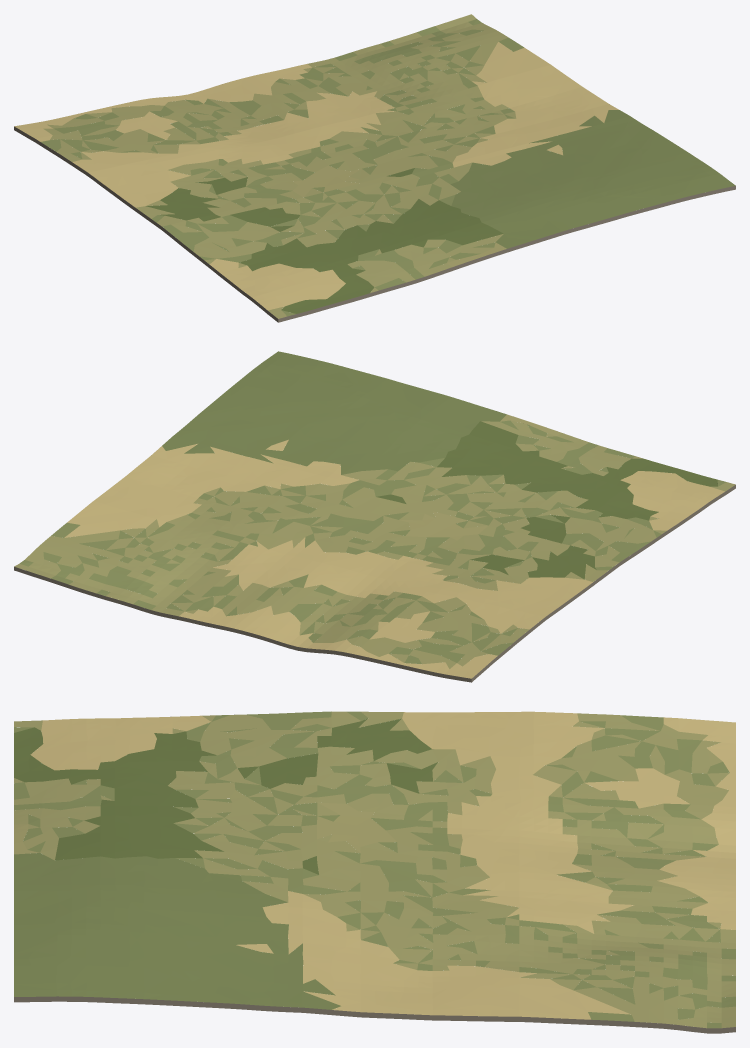
File: parca_+1_-3-uzak.glb
3 renders of one model, top to bottom at view 1: azimuth 30°, elevation 25°; view 2: azimuth 150°, elevation 25°; view 3: azimuth 270°, elevation 25°, orthographic. The views are drawn at different scales.
Visible parts, largest first — view 1: parca_+1_-3_arazi_uzak; view 2: parca_+1_-3_arazi_uzak; view 3: parca_+1_-3_arazi_uzak.
Part boxes in pixels (<box>): parca_+1_-3_arazi_uzak: <box>14,14,735,322</box>; parca_+1_-3_arazi_uzak: <box>14,351,735,682</box>; parca_+1_-3_arazi_uzak: <box>14,711,735,1033</box>.
Bounding box in the file's own units: 1000 × 79.19 × 1000.
